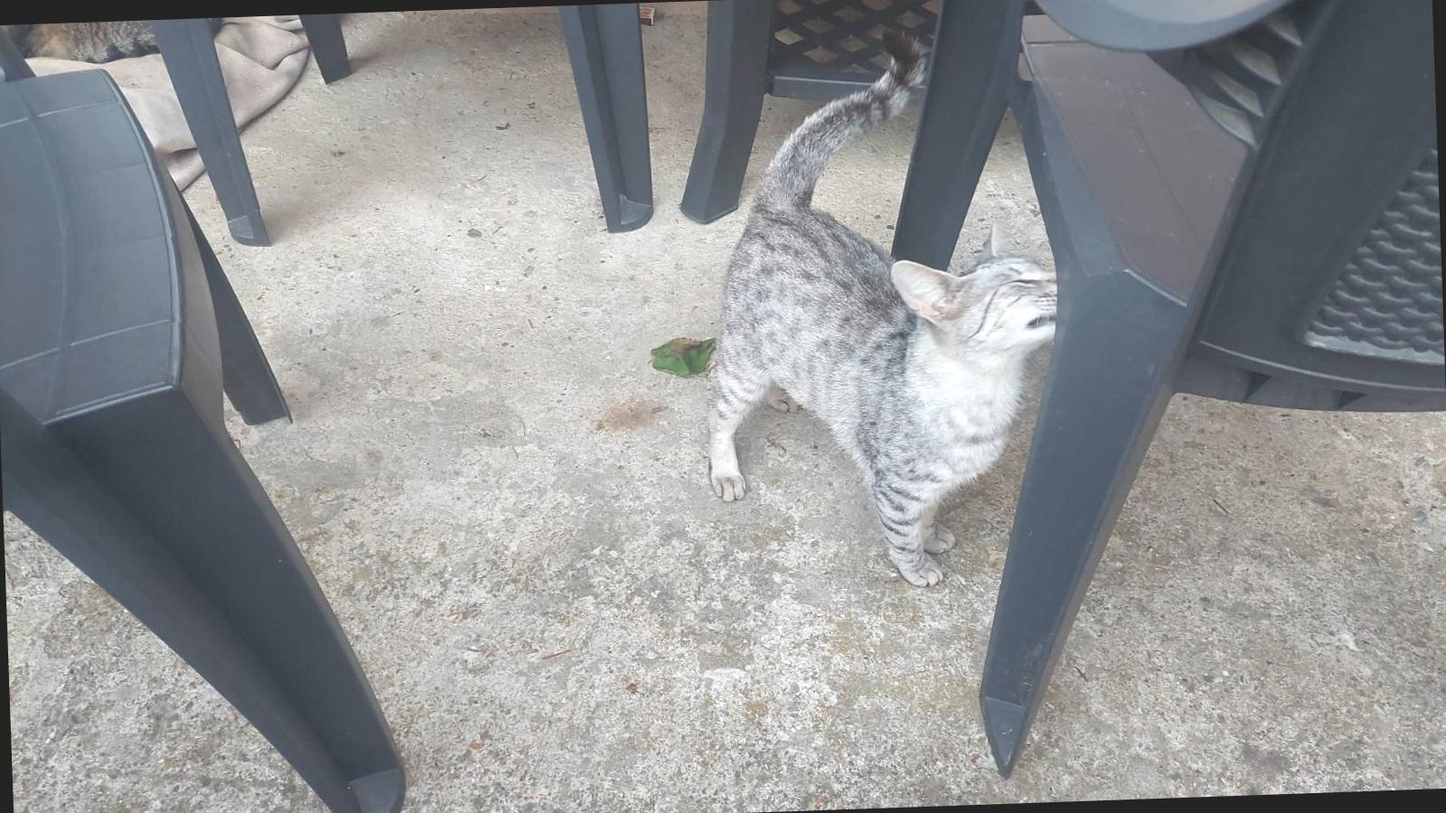macka: (694, 21, 1088, 600)
